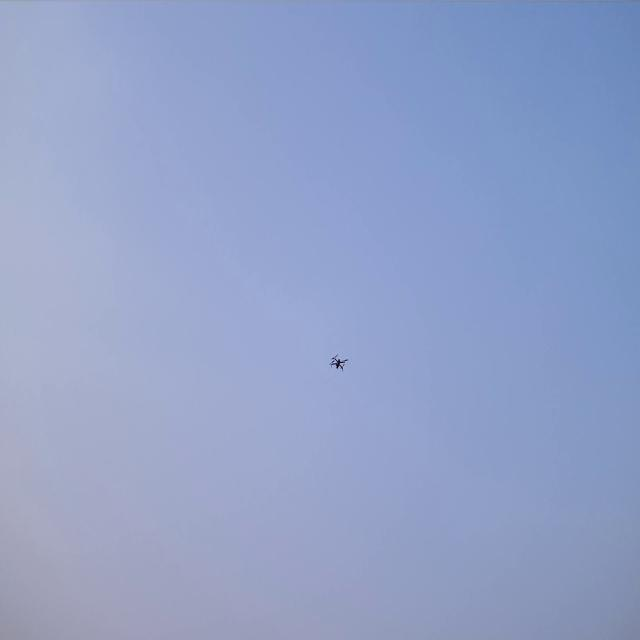UAV: (328, 353, 349, 373)
